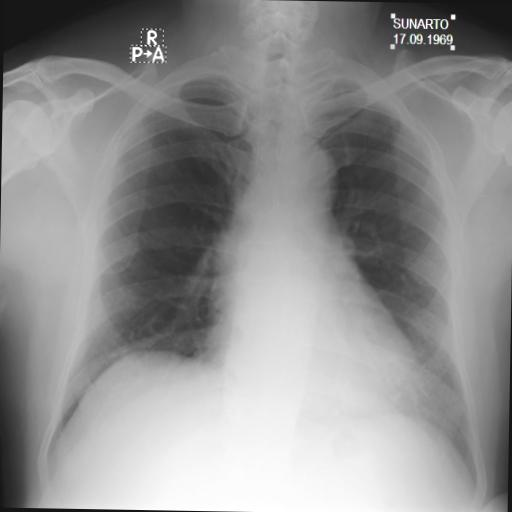kardiomegali: (190, 228, 427, 419)
